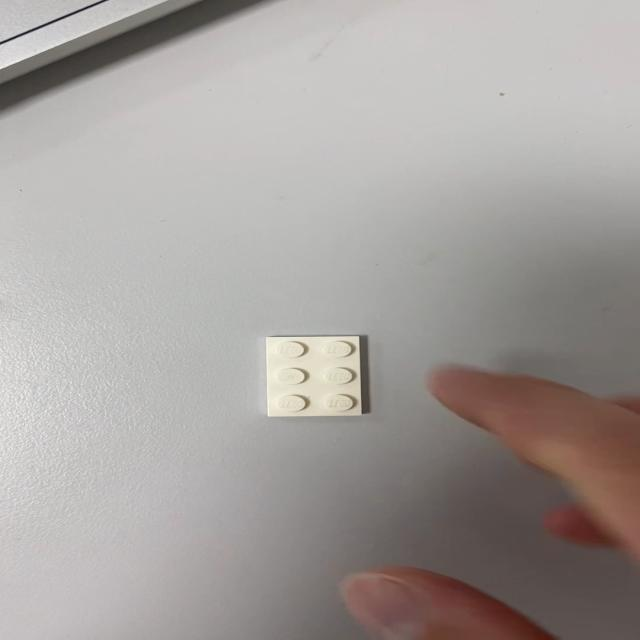C3x2x0: (264, 335, 363, 417)
